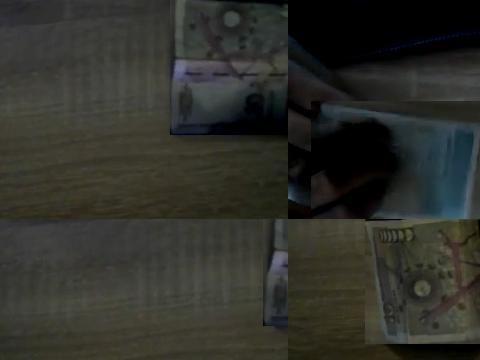10leva: (365, 219, 480, 344)
20leva: (311, 101, 480, 219)
